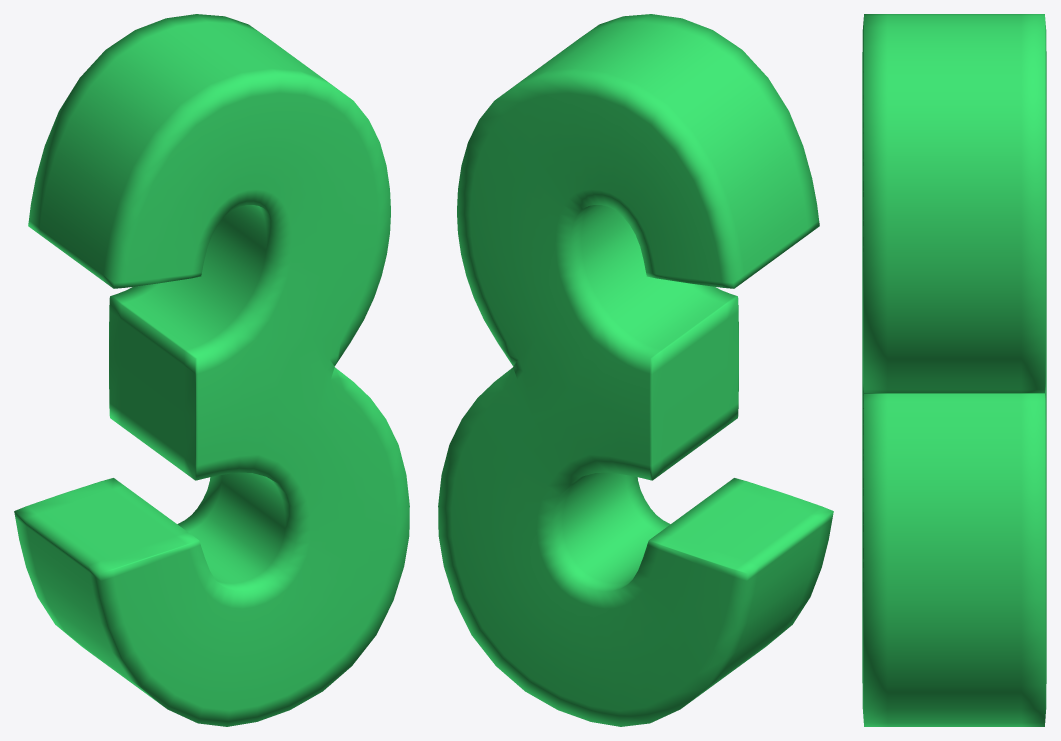
3 renders of one model, left to right at view 1: azimuth 30°, elevation 25°; view 2: azimuth 150°, elevation 25°; view 3: azimuth 270°, elevation 25°, orthographic. The views are drawn at different scales.
Visible parts, largest first — view 1: 3; view 2: 3; view 3: 3.
Boxes of the visible parts, x1,y1,x2,y2 form: 3: (14,14,409,726); 3: (438,14,833,726); 3: (862,14,1046,726).
Size of the model in its own units: 614 by 1216 by 300.
